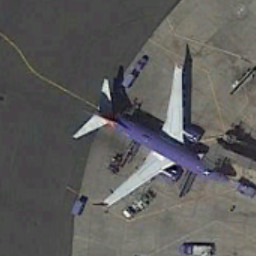Airplane: (61, 51, 237, 214)
